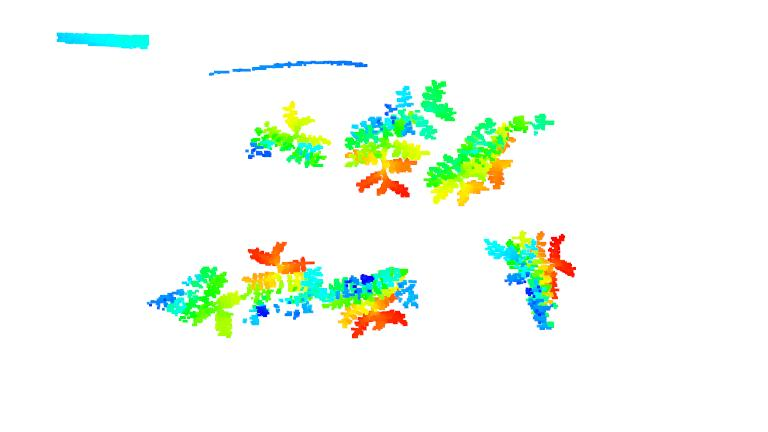chickpea: (346, 77, 455, 199), (423, 111, 550, 209), (481, 232, 579, 330), (140, 266, 250, 339), (240, 237, 327, 324), (323, 264, 419, 341), (244, 98, 332, 171)
